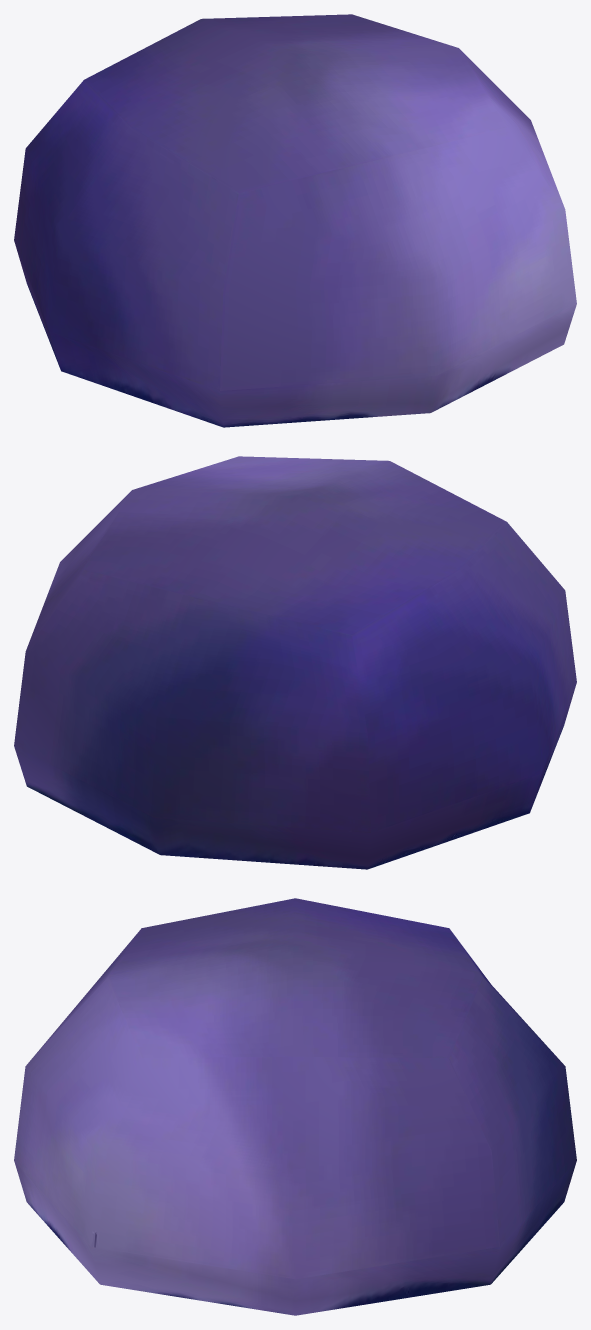
Rendered from track-01.glb.
The picture shows the model from 3 angles, top to bottom: view 1: azimuth 30°, elevation 25°; view 2: azimuth 150°, elevation 25°; view 3: azimuth 270°, elevation 25°; orthographic projection.
Parts seen in each view (by area): view 1: sky; view 2: sky; view 3: sky.
Boxes of the visible parts, left/top/right/bottom form: sky: left=14, top=14, right=576, bottom=427; sky: left=14, top=456, right=576, bottom=869; sky: left=14, top=898, right=576, bottom=1315.
Size of the model in its own units: 6583 by 3427 by 6583.
Materials: 10 (9 with a texture image).
